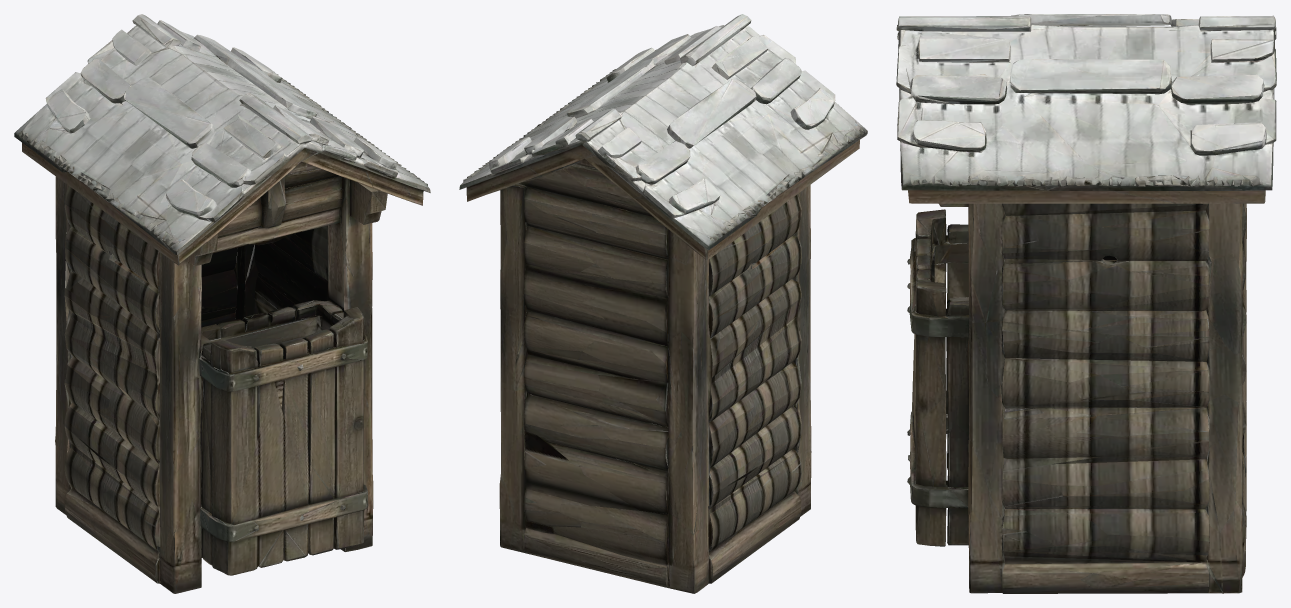
The model's file is trash_bin.glb.
3 views of the same model, side by side, from view 1: azimuth 30°, elevation 25°; view 2: azimuth 150°, elevation 25°; view 3: azimuth 270°, elevation 25° (orthographic). The views are drawn at different scales.
Size of the model in its own units: 1.12 by 1.9 by 1.26.
1 material, 1 textured.
